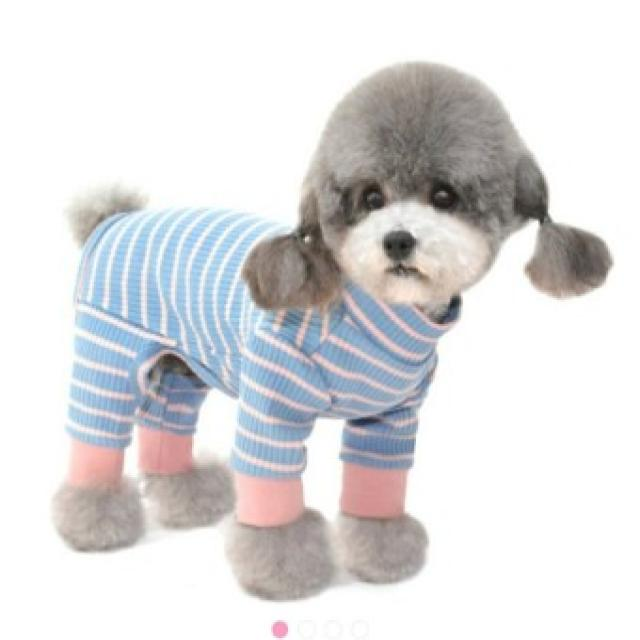cloth: (70, 209, 459, 527)
